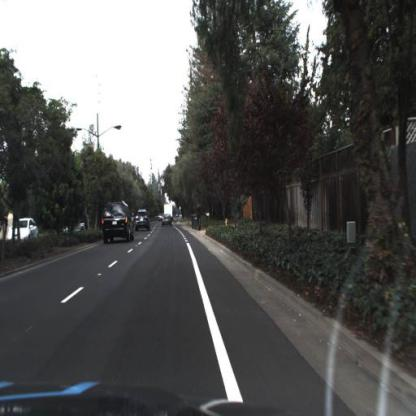car: (99, 197, 134, 247), (10, 218, 40, 247), (134, 204, 152, 232), (161, 210, 173, 229)
truck: (162, 201, 175, 227)
